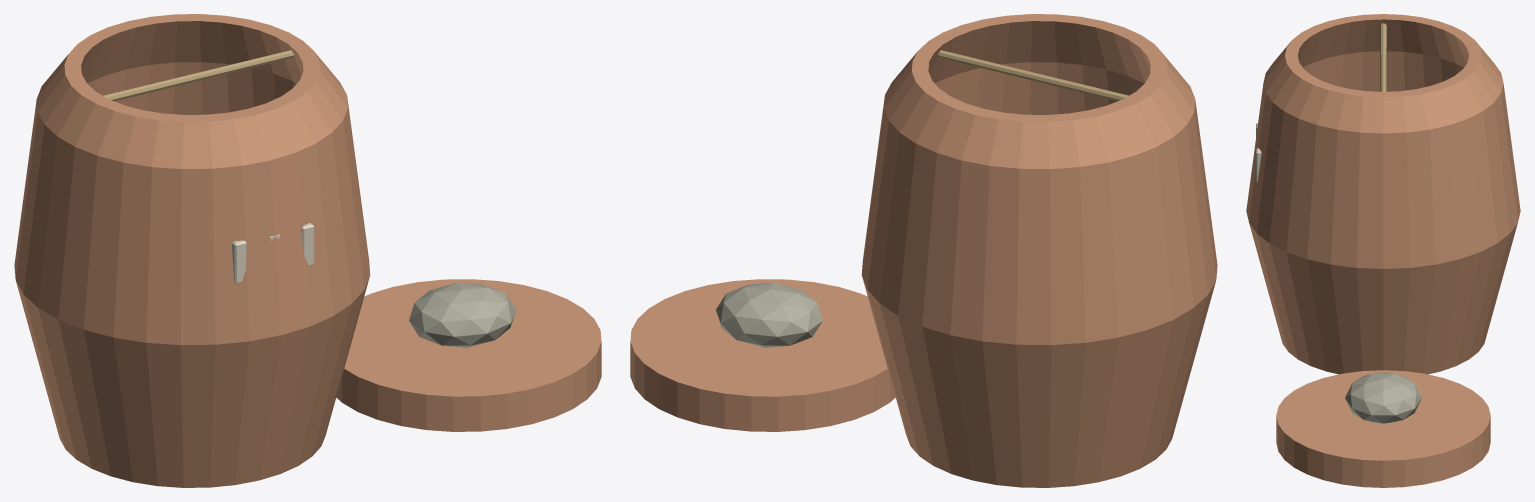
The picture shows the model from 3 angles, left to right: view 1: azimuth 30°, elevation 25°; view 2: azimuth 150°, elevation 25°; view 3: azimuth 270°, elevation 25°; orthographic projection. The views are drawn at different scales.
Parts seen in each view (by area): view 1: CE-055 Weighted-cover fish-sauce fermenter batched; view 2: CE-055 Weighted-cover fish-sauce fermenter batched; view 3: CE-055 Weighted-cover fish-sauce fermenter batched.
Part boxes in pixels (box(x1,y1,x2,y2)): CE-055 Weighted-cover fish-sauce fermenter batched: box(14, 14, 601, 487); CE-055 Weighted-cover fish-sauce fermenter batched: box(630, 14, 1217, 487); CE-055 Weighted-cover fish-sauce fermenter batched: box(1246, 14, 1520, 487).
Size of the model in its own units: 1.13 by 0.735 by 0.64.
